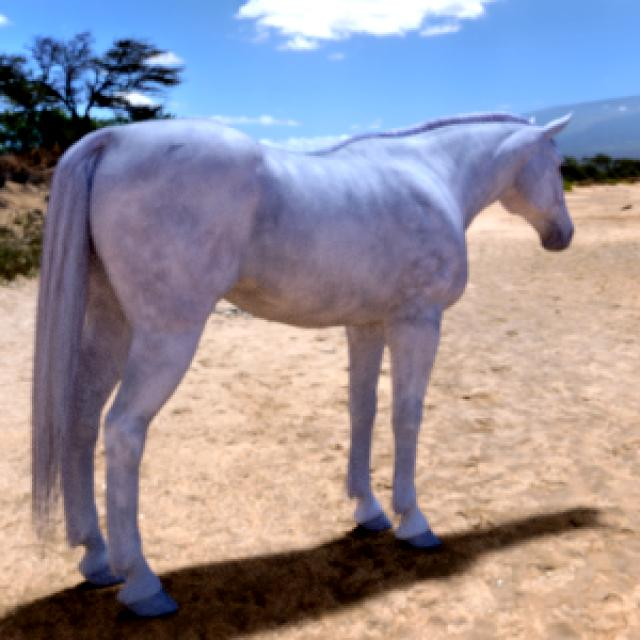horse: (32, 114, 570, 617)
